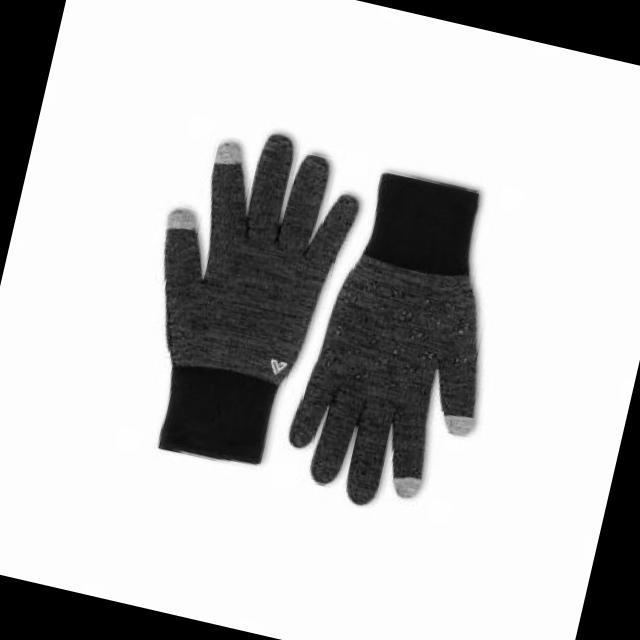gloves: (114, 96, 377, 487), (279, 157, 524, 523)
